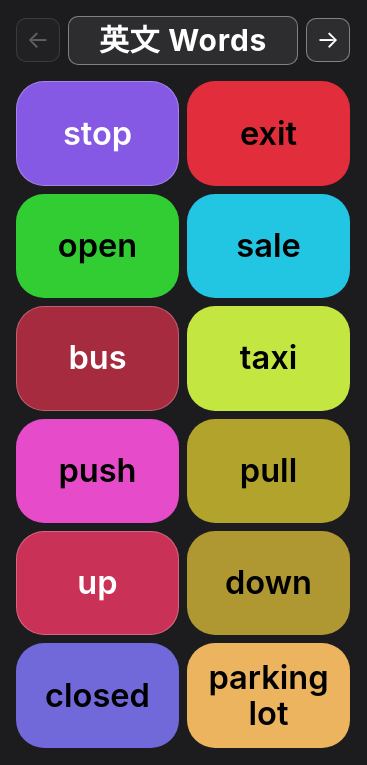
Test case: pronounces a phrase and flashes its Chinese translation
Later steps or results of the test are not shown.
Click the button named "Next page" at point(328, 40), box [306,18,350,62]
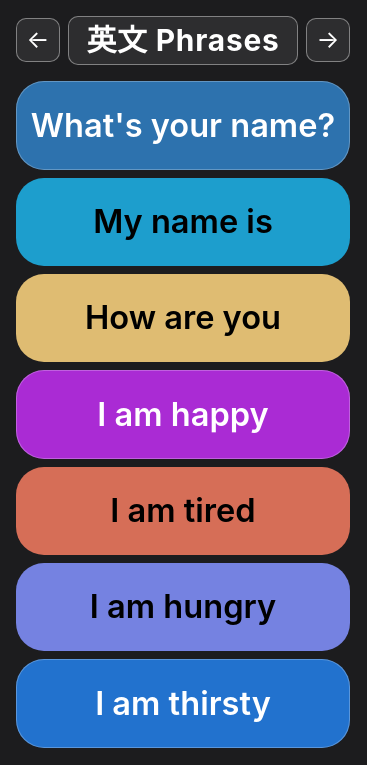
Click the button "I am happy" at point(183, 415), box [16,370,350,459]
Result: the button "I am happy" is shown at [16,370,350,459]
